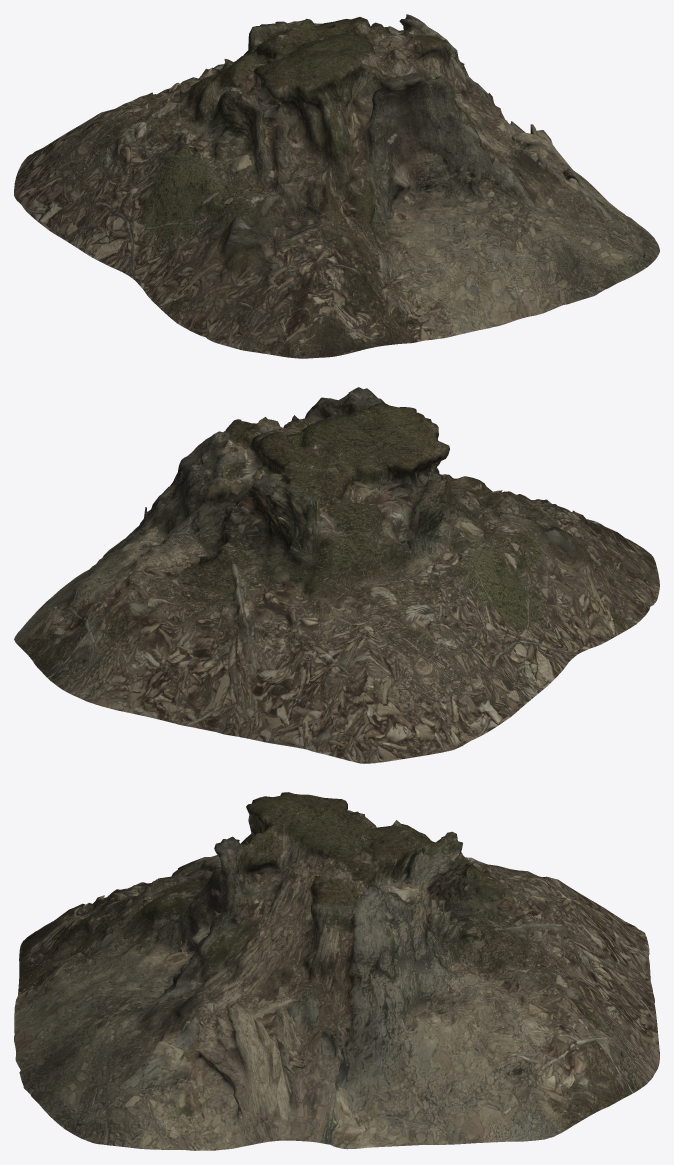
File: B_Stump_01.fbx
3 renders of one model, top to bottom at view 1: azimuth 30°, elevation 25°; view 2: azimuth 150°, elevation 25°; view 3: azimuth 270°, elevation 25°, orthographic. The views are drawn at different scales.
Visible parts, largest first — view 1: B_Stump_01_LOD0; view 2: B_Stump_01_LOD0; view 3: B_Stump_01_LOD0.
Part boxes in pixels (<box>): B_Stump_01_LOD0: <box>14,14,659,358</box>; B_Stump_01_LOD0: <box>14,387,659,763</box>; B_Stump_01_LOD0: <box>14,792,659,1150</box>.
Size of what is drawn, in the model's own units: 1.61 by 0.6481 by 1.8.
